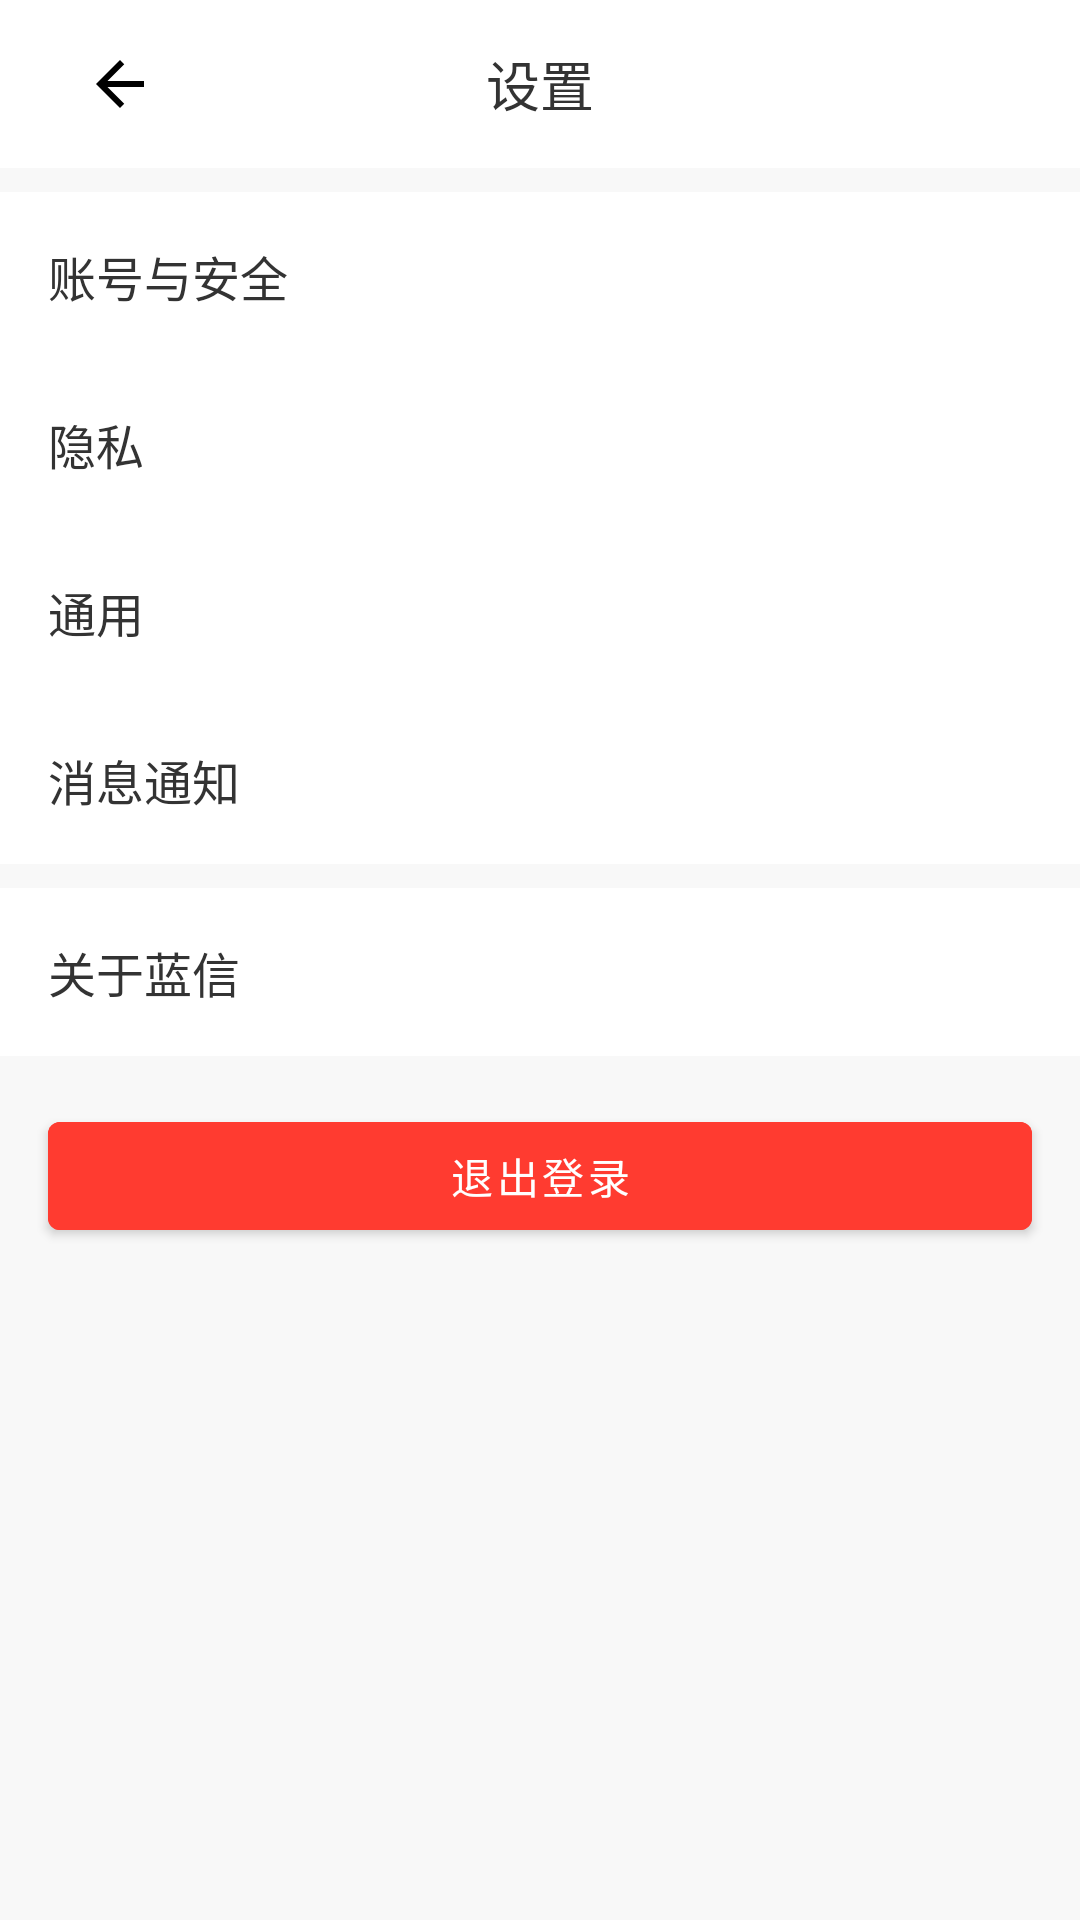

Screen size 1080 x 1920. Icon name, then its center in pixels as (x=x, y=y):
返回: (x=120, y=84)
